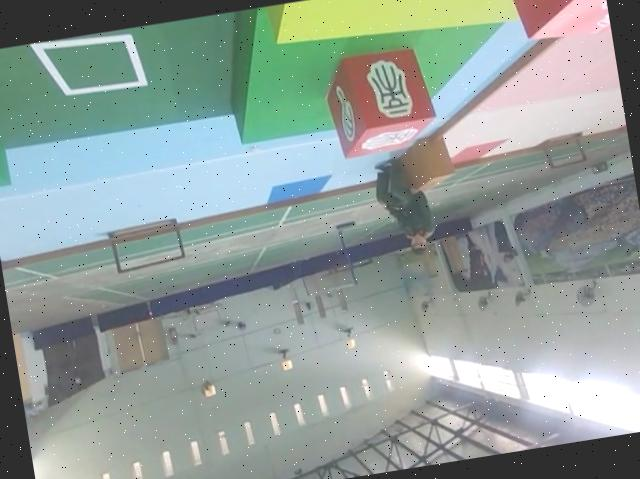R2 Fake: (319, 42, 440, 160)
